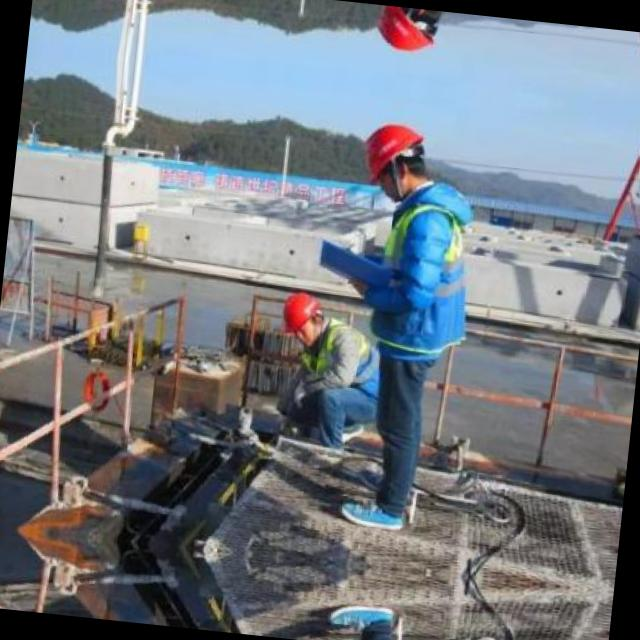helmet: (354, 115, 436, 202), (368, 3, 448, 62), (276, 286, 331, 344)
